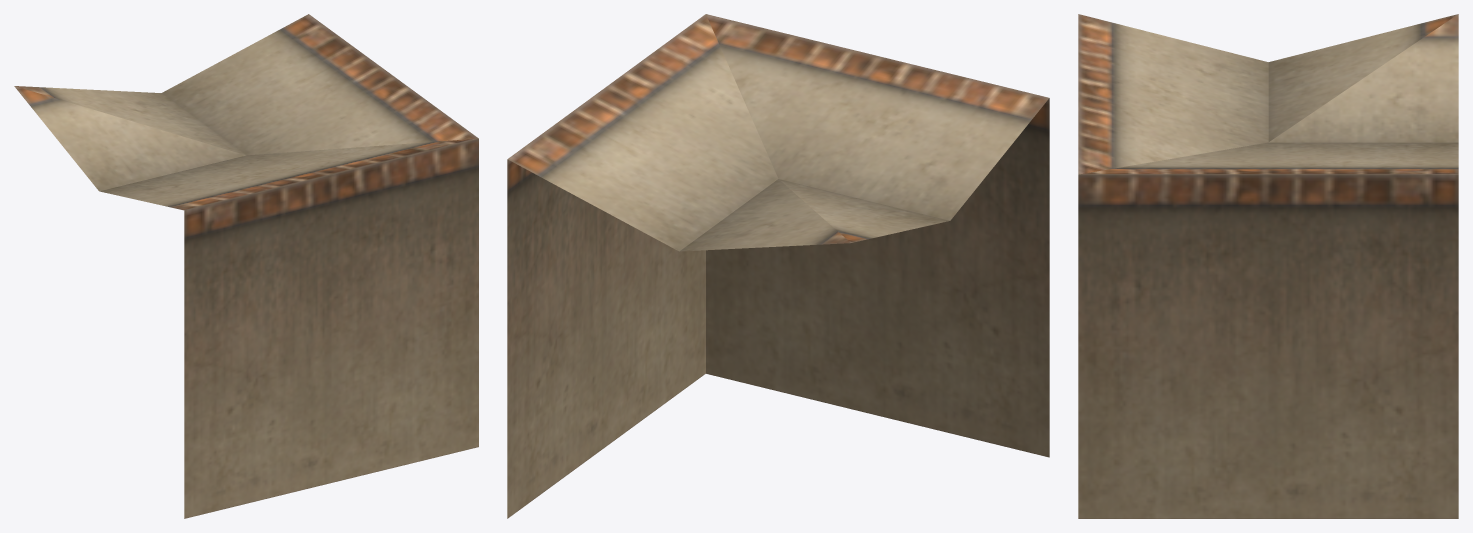
Rendered from sink_corner.glb.
3 renders of one model, left to right at view 1: azimuth 30°, elevation 25°; view 2: azimuth 150°, elevation 25°; view 3: azimuth 270°, elevation 25°, orthographic. The views are drawn at different scales.
Visible parts, largest first — view 1: Floor_04_01; view 2: Floor_04_01; view 3: Floor_04_01.
Part boxes in pixels (x1,y1,x2,y2): Floor_04_01: (14,14,478,518); Floor_04_01: (507,14,1049,518); Floor_04_01: (1078,14,1458,518).
Size of the model in its own units: 5 by 5 by 5.
Materials: 2 (2 with a texture image).
